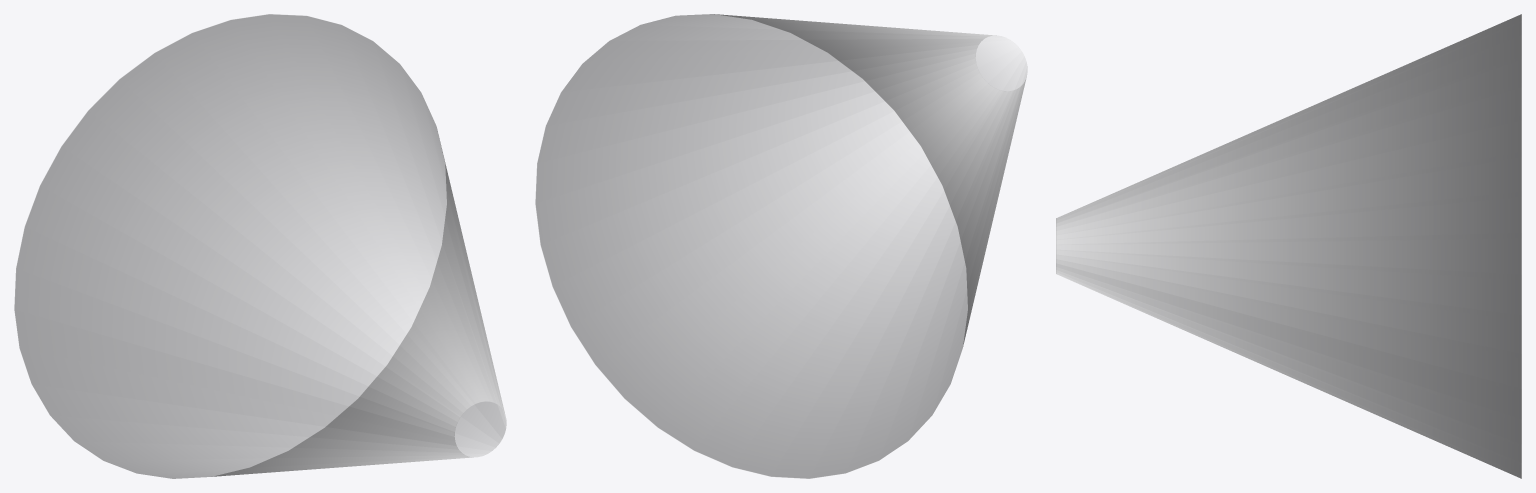
File: lightcone.fbx
The picture shows the model from 3 angles, left to right: view 1: azimuth 30°, elevation 25°; view 2: azimuth 150°, elevation 25°; view 3: azimuth 270°, elevation 25°; orthographic projection. The views are drawn at different scales.
Visible parts, largest first — view 1: Flash; view 2: Flash; view 3: Flash.
Boxes of the visible parts, x1,y1,x2,y2 form: Flash: [14, 14, 506, 478]; Flash: [535, 14, 1027, 478]; Flash: [1056, 14, 1521, 478].
Bounding box in the file's own units: 2 × 2 × 2.
Materials: 1 (1 with a texture image).
